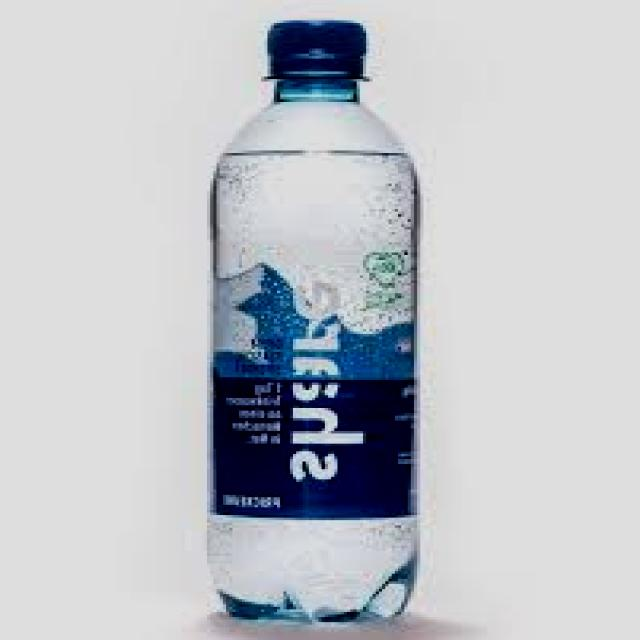inorganic: (193, 22, 452, 630)
